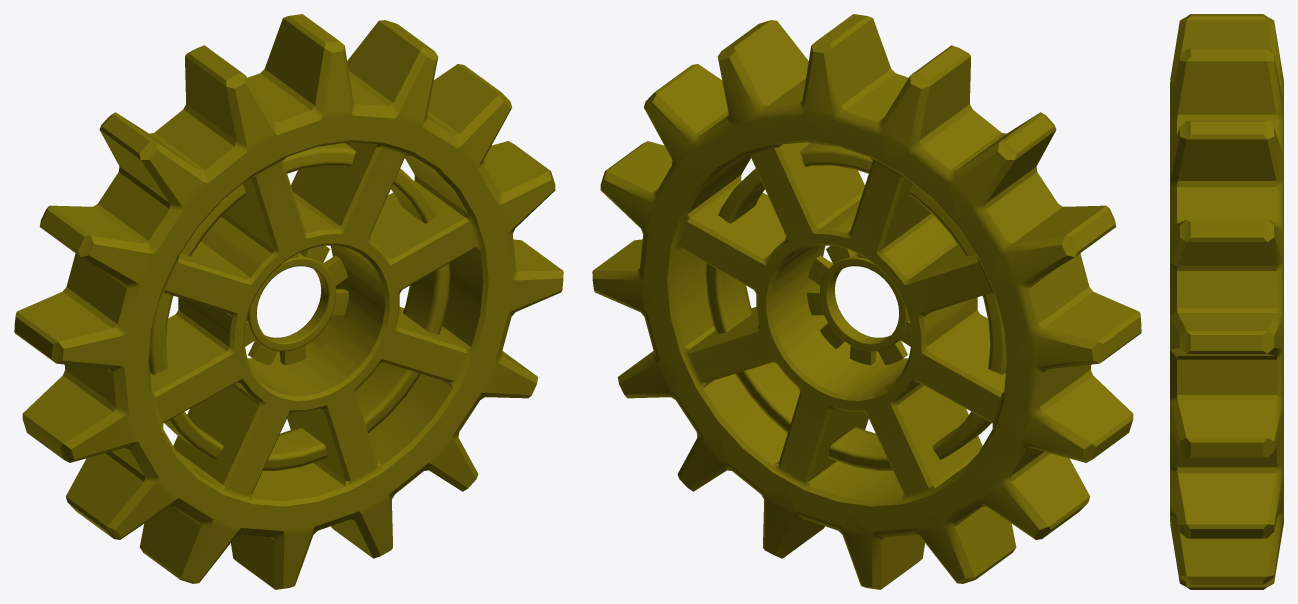
The model's file is medal_Gold.fbx.
3 renders of one model, left to right at view 1: azimuth 30°, elevation 25°; view 2: azimuth 150°, elevation 25°; view 3: azimuth 270°, elevation 25°, orthographic. The views are drawn at different scales.
Visible parts, largest first — view 1: medal_gear_kan_pCylinder15; view 2: medal_gear_kan_pCylinder15; view 3: medal_gear_kan_pCylinder15.
Boxes of the visible parts, x1,y1,x2,y2 form: medal_gear_kan_pCylinder15: [14, 14, 563, 589]; medal_gear_kan_pCylinder15: [592, 14, 1141, 589]; medal_gear_kan_pCylinder15: [1170, 14, 1283, 589].
Size of the model in its own units: 2.88 by 2.88 by 0.5675.
